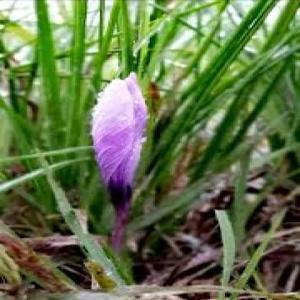Saffron: (90, 73, 146, 226)
